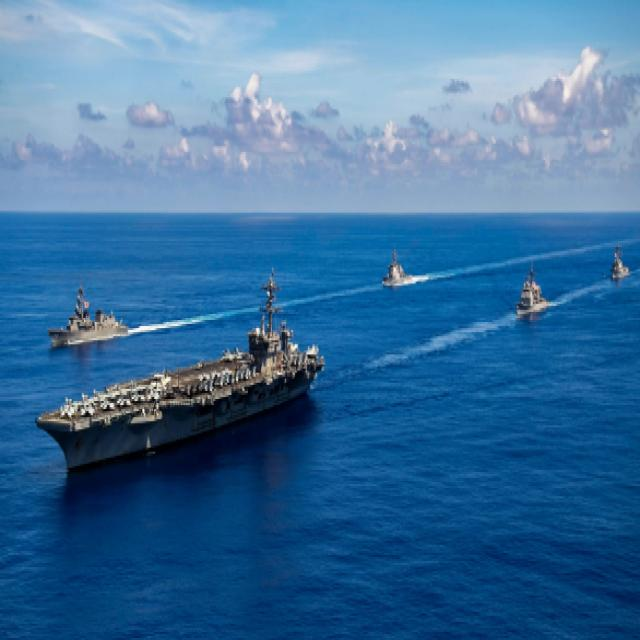navalvessels: (38, 270, 330, 471), (49, 274, 135, 354), (512, 261, 548, 315), (381, 244, 414, 295), (606, 229, 634, 281)
